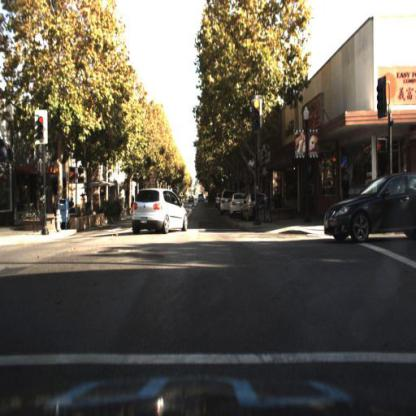car: (322, 166, 415, 249), (319, 175, 416, 242), (122, 182, 190, 242), (244, 193, 270, 223), (230, 192, 249, 220), (230, 197, 246, 217), (221, 191, 229, 215), (197, 190, 206, 204)
pedestrian: (342, 172, 352, 214), (344, 172, 352, 203)
trafficLight-Red: (34, 111, 47, 142), (252, 97, 262, 133), (34, 112, 44, 143)
